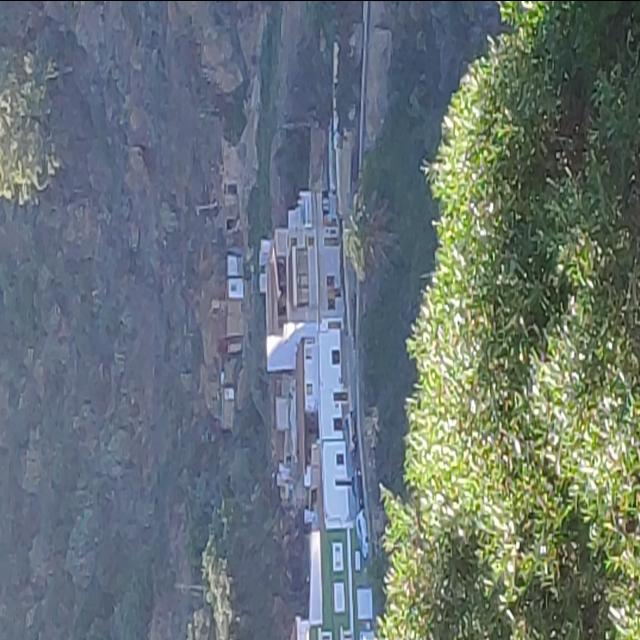Palm-Trees: (347, 189, 391, 275)
